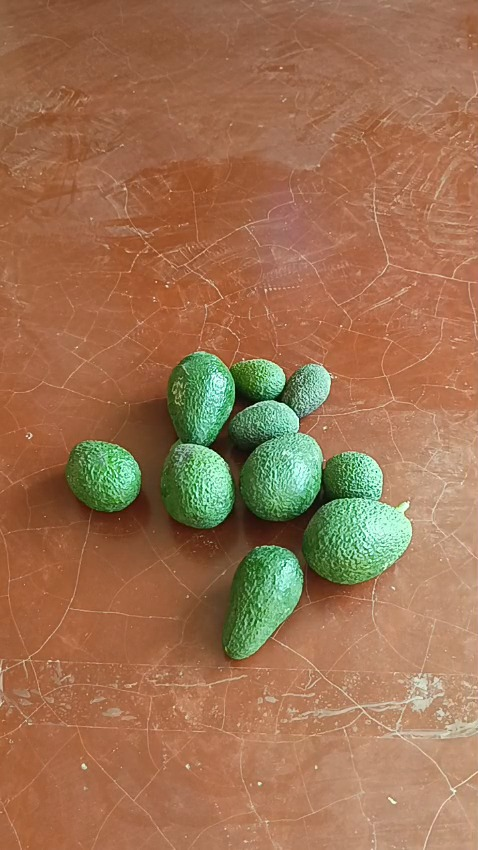Primera: (303, 497, 413, 583), (239, 433, 324, 520), (158, 441, 235, 527), (165, 351, 235, 445)
Segunda: (222, 545, 304, 658), (64, 438, 143, 512)
Tercera: (229, 400, 299, 451), (320, 450, 384, 503), (278, 363, 332, 418), (228, 357, 285, 402)
